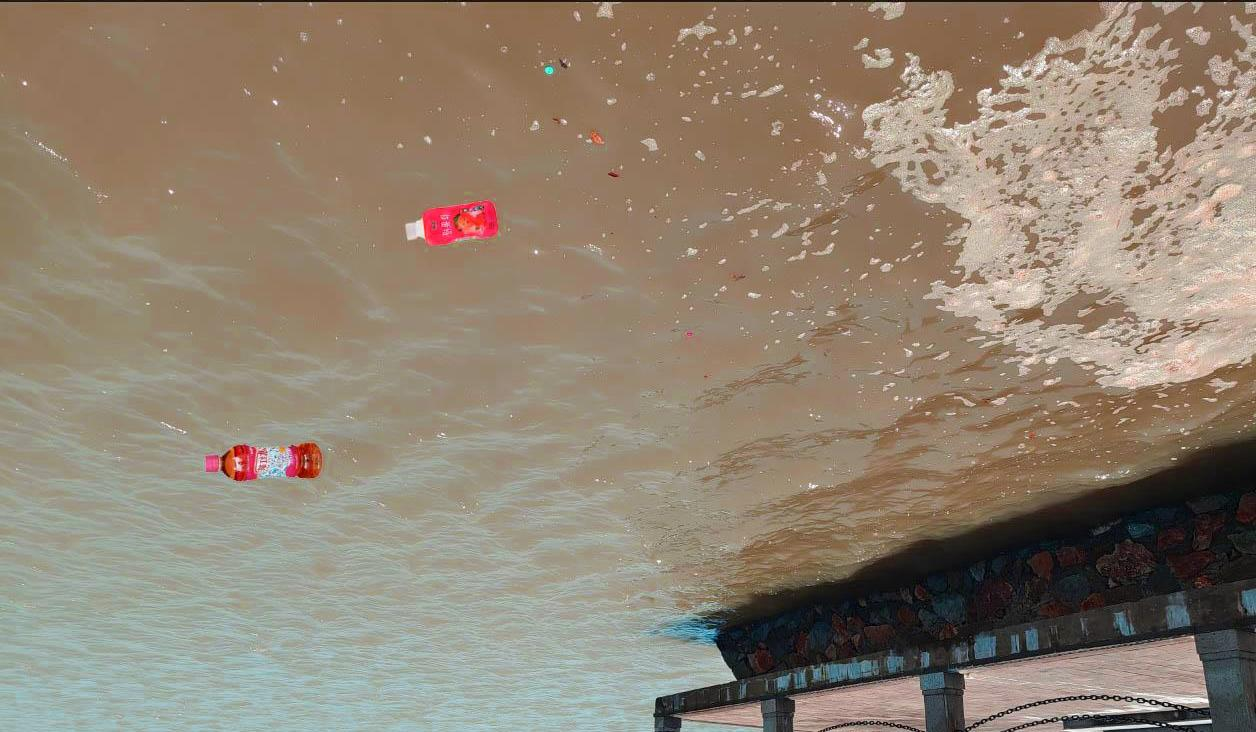Plastic: (201, 439, 323, 487), (399, 200, 502, 253)
